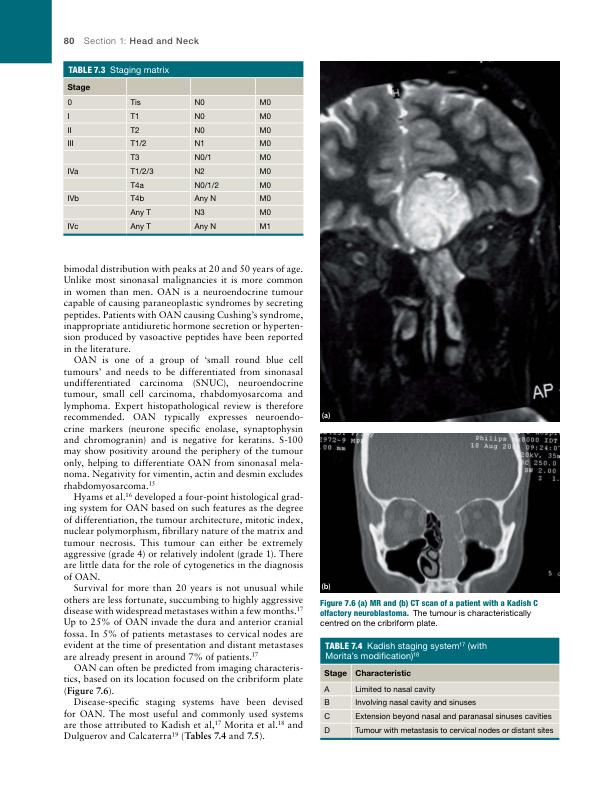caption: (319, 598, 540, 630), (323, 641, 489, 662), (67, 65, 170, 76), (320, 582, 331, 591), (320, 411, 331, 420)
header: (83, 35, 200, 45)
image: (319, 59, 561, 423), (319, 432, 561, 594)
table: (63, 76, 303, 234), (320, 664, 559, 739)
text: (62, 263, 304, 743)
